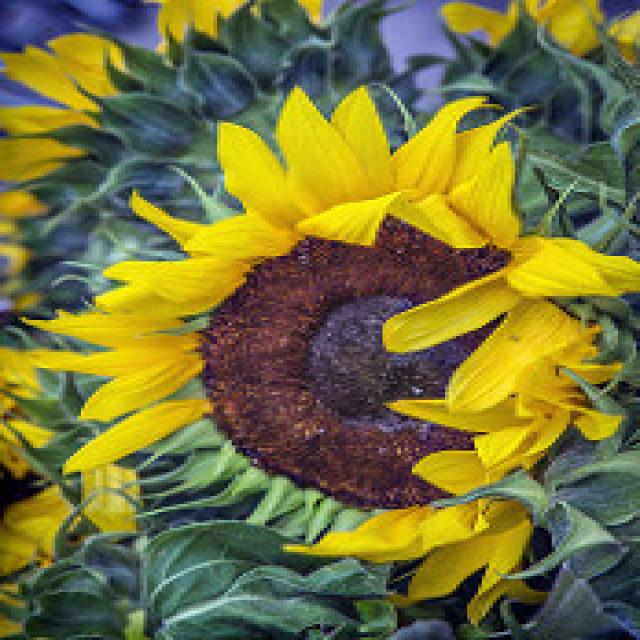sunflower: (14, 90, 640, 586)
